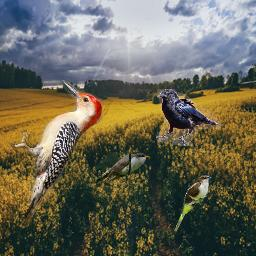Crow: (156, 89, 221, 146)
Cuckoo: (174, 175, 212, 232), (88, 152, 149, 184)
Woodpecker: (9, 80, 104, 223)
